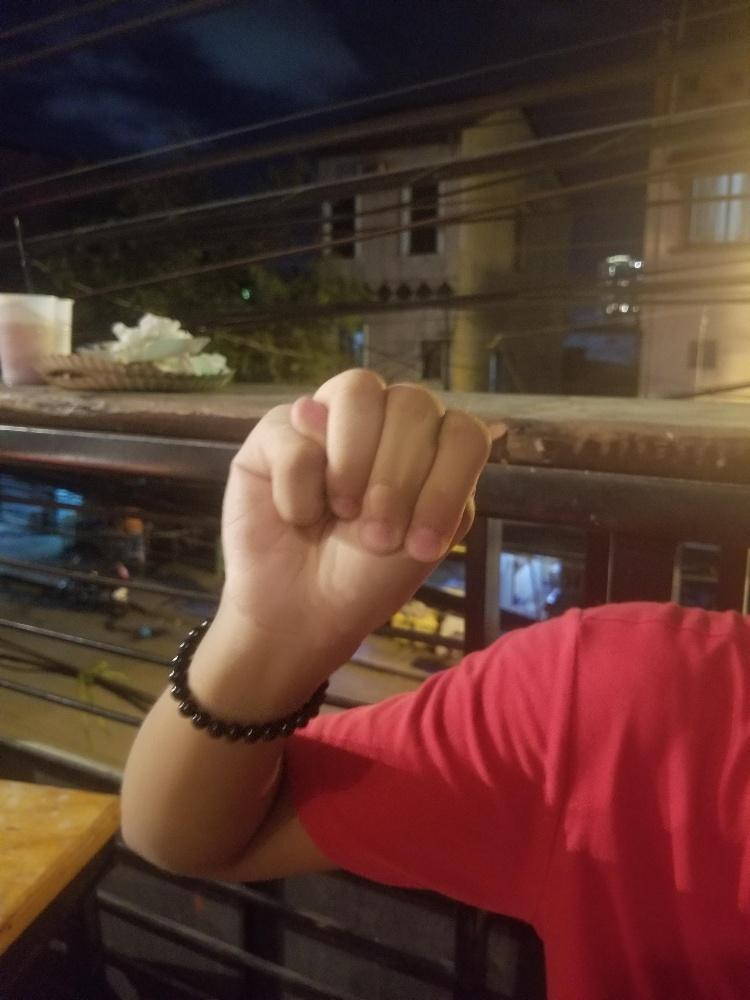m: (222, 367, 489, 628)
